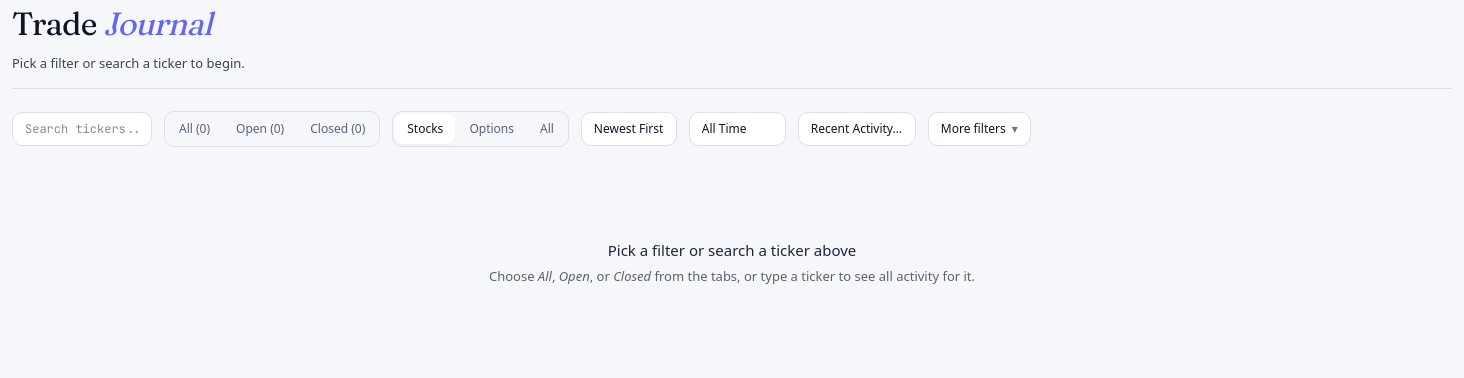
Scenario: TradeJournal — strategy pill › pill still renders when the trade's strategy is no longer active
This screenshot has width=1464, height=378.
What coordinates should you click on to do the following:
click the button "open (0)"
I would click on:
 (260, 128)
Its box is [224, 114, 296, 144].
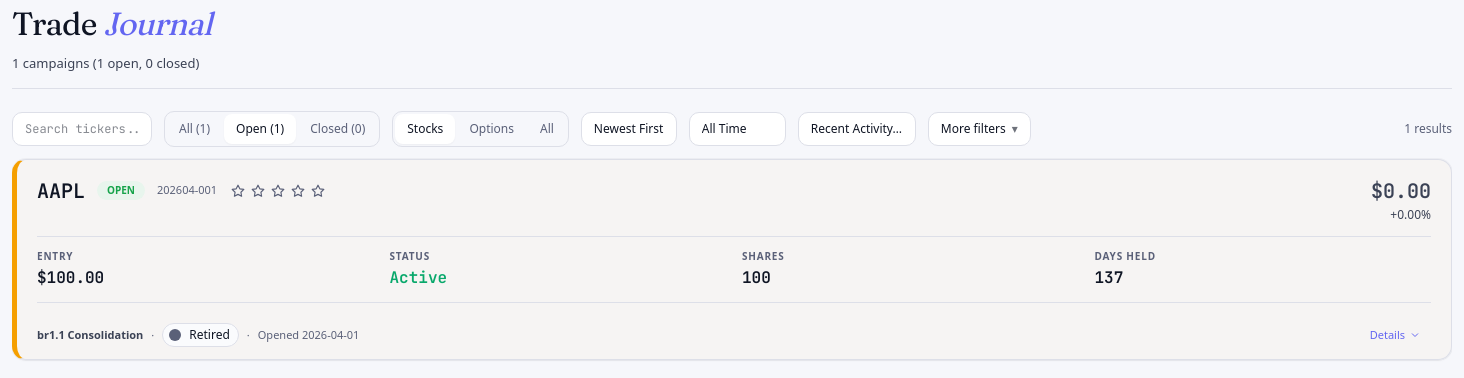
expect the text "Retired" is shown: met, box [189, 326, 230, 344]
